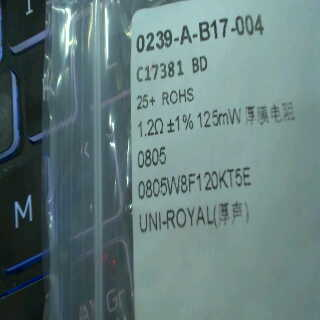1.2R: (136, 115, 168, 171)
